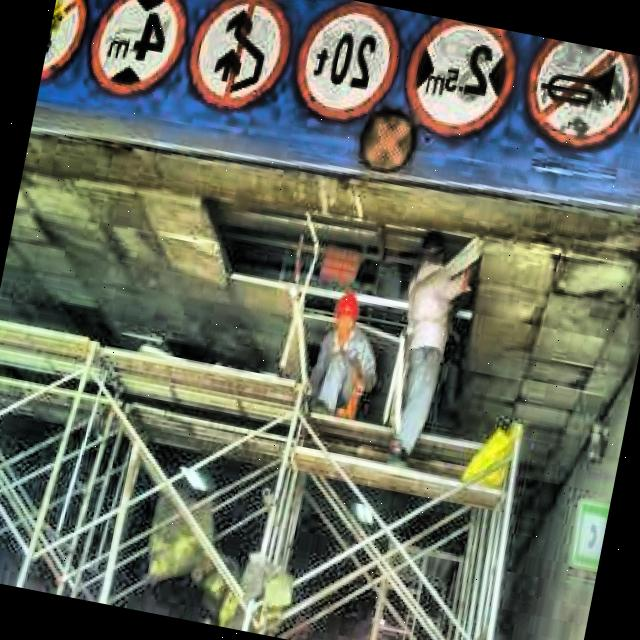helmet: (402, 222, 453, 296), (327, 284, 368, 348)
